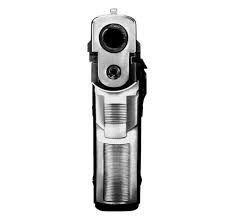gun: (86, 7, 148, 212)
